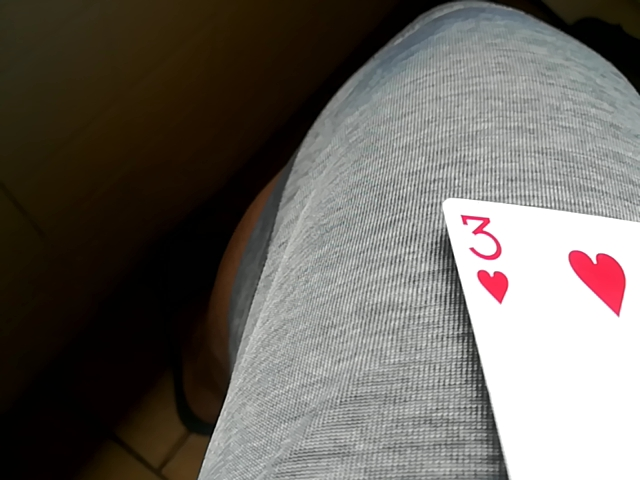hx 3: (436, 193, 635, 478)
